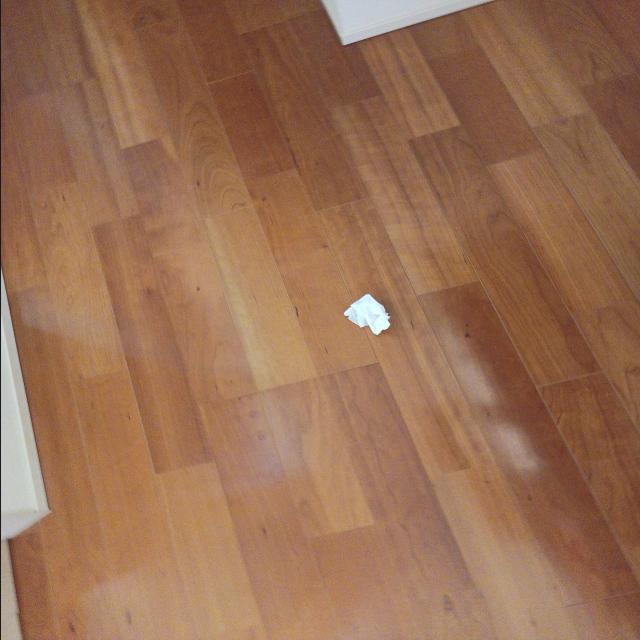Paper: (344, 288, 416, 356)
